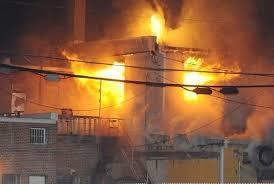fire: (62, 49, 129, 104), (177, 55, 218, 97)
